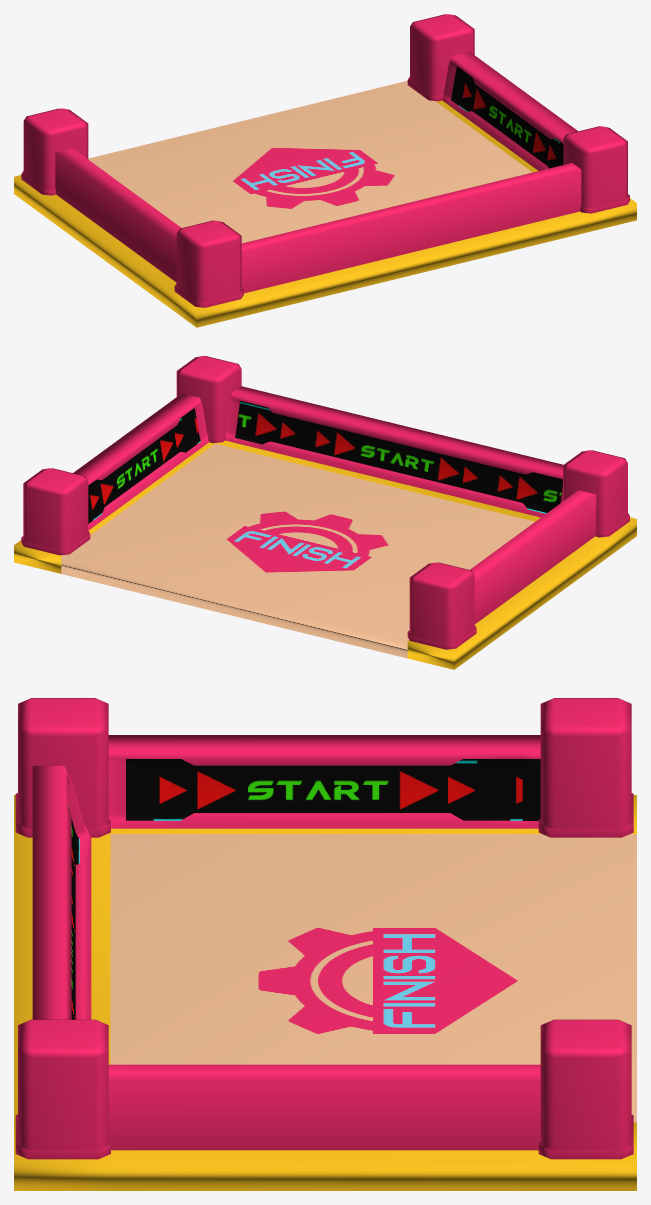
Rendered from PLF0110007.fbx.
The picture shows the model from 3 angles, top to bottom: view 1: azimuth 30°, elevation 25°; view 2: azimuth 150°, elevation 25°; view 3: azimuth 270°, elevation 25°; orthographic projection. The views are drawn at different scales.
Parts seen in each view (by area): view 1: smPLF0110007; view 2: smPLF0110007; view 3: smPLF0110007.
Part boxes in pixels (box(x1,y1,x2,y2)): smPLF0110007: box(14, 14, 636, 327); smPLF0110007: box(14, 356, 636, 669); smPLF0110007: box(14, 698, 636, 1190).
Size of the model in its own units: 1022 by 175 by 734.
2 materials, 2 textured.
